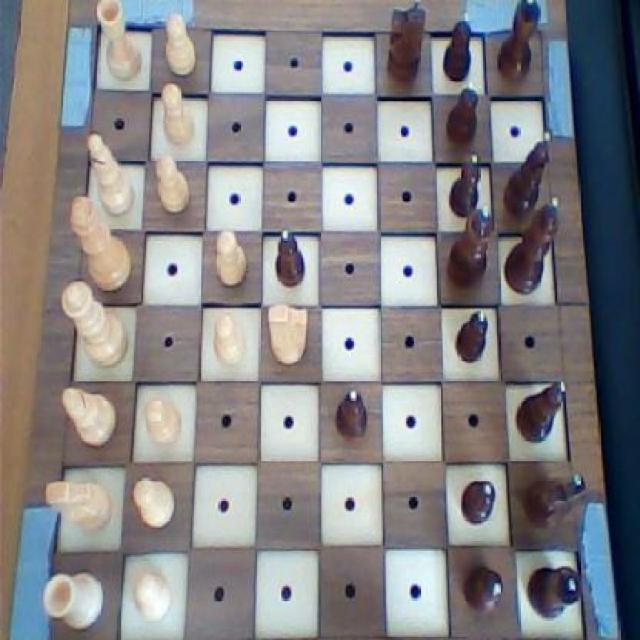bishop: (498, 128, 554, 218), (514, 377, 569, 445)
black-bishop: (502, 192, 563, 297)
black-king: (517, 465, 588, 537), (386, 0, 428, 91)
black-knight: (441, 77, 484, 152), (458, 556, 507, 620), (449, 300, 494, 369), (439, 8, 476, 87), (330, 386, 376, 448), (269, 224, 309, 294), (446, 148, 482, 220), (454, 476, 499, 528)
black-pawn: (441, 203, 497, 296)
black-queen: (492, 0, 542, 88), (522, 557, 582, 622)
black-rook: (85, 128, 137, 222), (57, 379, 121, 453)
white-bishop: (65, 192, 137, 294)
white-king: (42, 472, 112, 541), (265, 297, 310, 368)
white-knight: (124, 559, 174, 626), (129, 469, 179, 534), (151, 151, 195, 219), (156, 80, 198, 149), (210, 226, 252, 295), (158, 11, 201, 78), (208, 308, 252, 372), (141, 388, 184, 450)
white-pawn: (54, 271, 130, 372)
white-queen: (35, 560, 108, 635), (94, 0, 149, 91)
